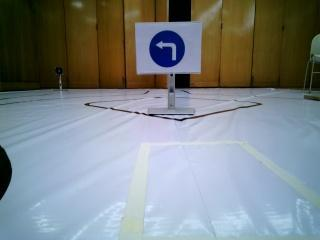left: (142, 28, 196, 69)
